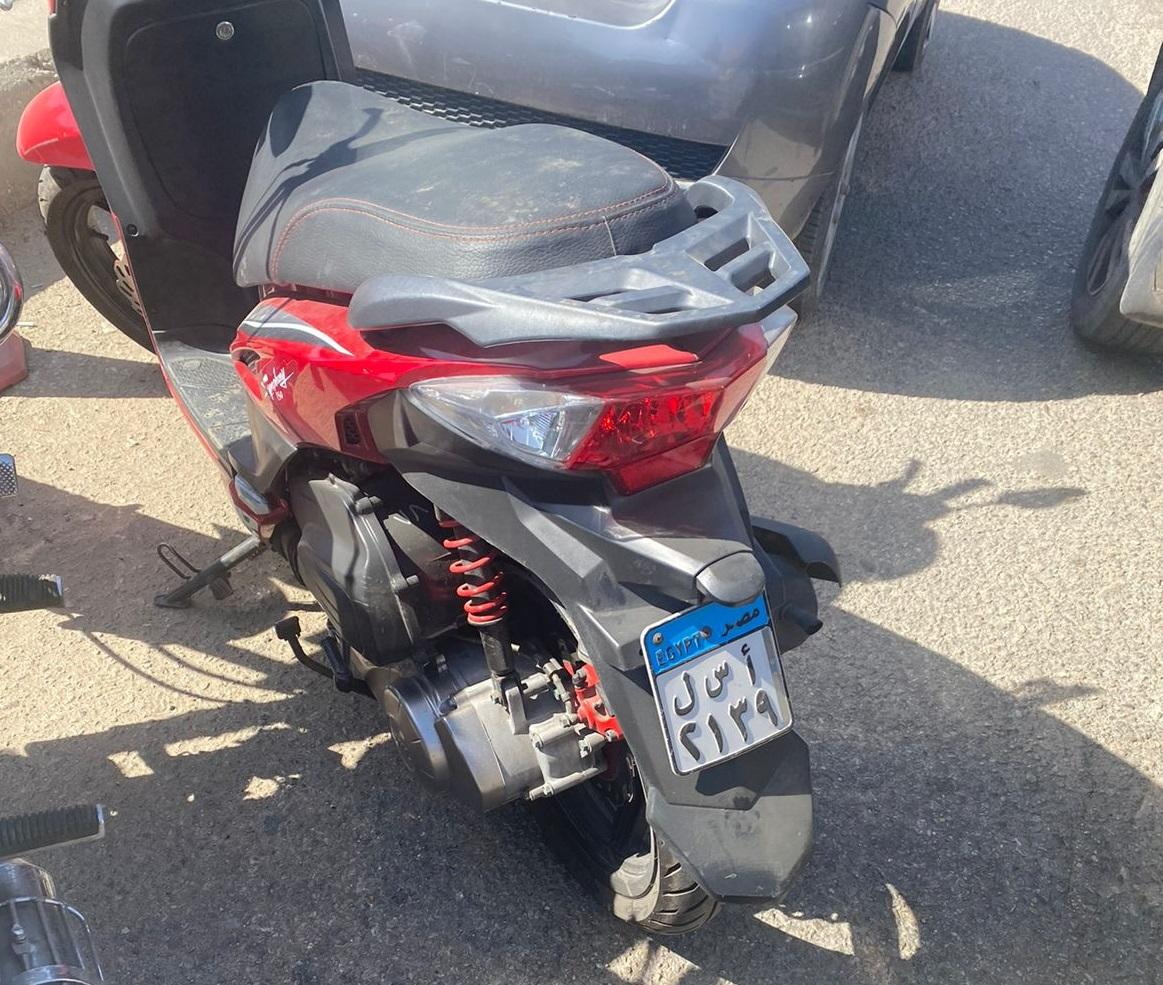License Plate: (644, 593, 794, 776)
